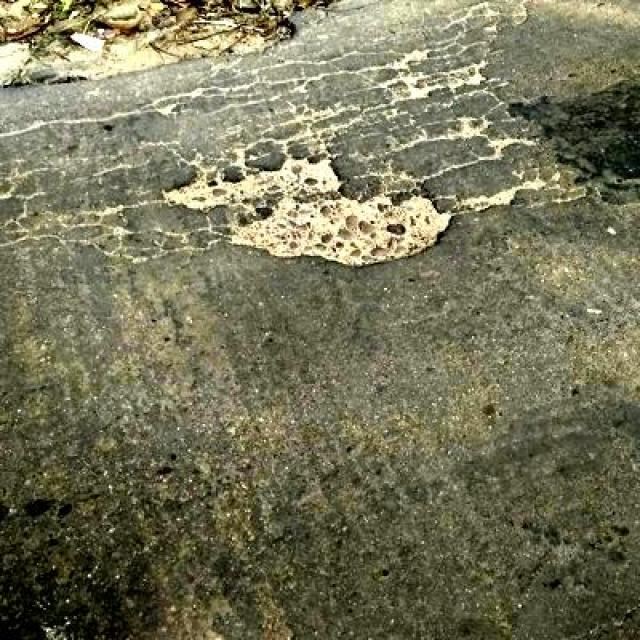pothole: (156, 150, 454, 268)
